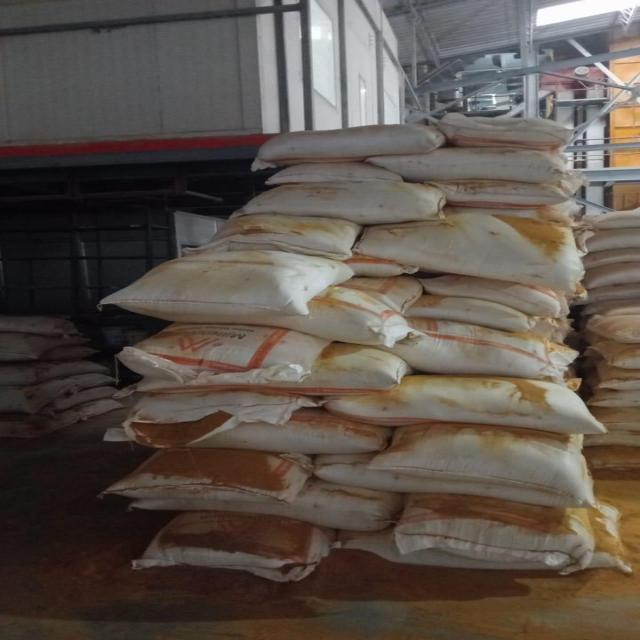gunny_bag: (353, 206, 590, 292), (95, 249, 358, 324), (364, 425, 590, 507), (324, 374, 611, 435), (112, 323, 337, 388), (310, 465, 605, 510), (119, 390, 319, 450), (386, 319, 569, 380), (387, 525, 599, 577), (248, 122, 451, 174), (223, 181, 450, 226), (91, 424, 389, 457), (122, 499, 398, 533), (177, 213, 365, 261), (269, 285, 411, 347), (127, 541, 323, 585), (366, 146, 575, 184), (110, 373, 403, 400), (99, 471, 311, 505), (421, 274, 562, 321), (434, 110, 577, 152), (409, 295, 535, 334), (426, 179, 572, 210), (262, 162, 408, 186), (592, 498, 637, 575), (340, 276, 426, 316), (349, 253, 423, 277), (582, 261, 640, 291), (584, 313, 639, 343), (572, 282, 640, 306), (583, 446, 640, 474), (581, 227, 640, 254), (587, 341, 639, 370), (592, 359, 638, 391), (584, 382, 640, 408), (581, 248, 640, 272), (578, 298, 639, 320), (595, 408, 637, 432), (587, 213, 640, 231), (584, 431, 637, 449)
